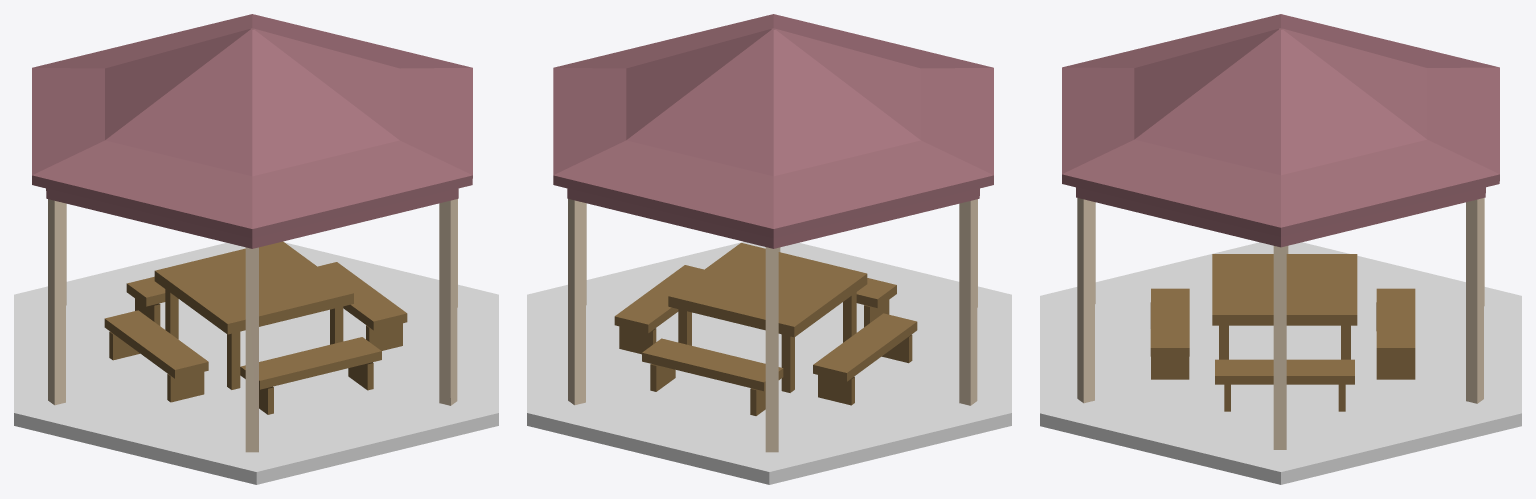
Rendered from Summerhouse2.FBX.
The picture shows the model from 3 angles, left to right: view 1: azimuth 30°, elevation 25°; view 2: azimuth 150°, elevation 25°; view 3: azimuth 270°, elevation 25°; orthographic projection.
Visible parts, largest first — view 1: polySurface1; view 2: polySurface1; view 3: polySurface1.
Part boxes in pixels (x1,y1,x2,y2): polySurface1: [14, 14, 498, 484]; polySurface1: [527, 14, 1011, 484]; polySurface1: [1040, 14, 1521, 484].
Size of the model in its own units: 58.5 by 39.03 by 50.66.
